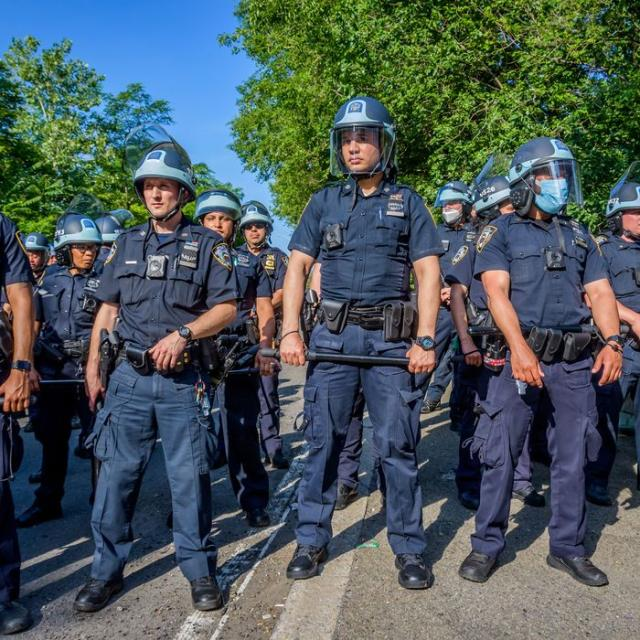police: (274, 42, 454, 640), (88, 140, 265, 640), (452, 134, 616, 600), (0, 191, 118, 552)
